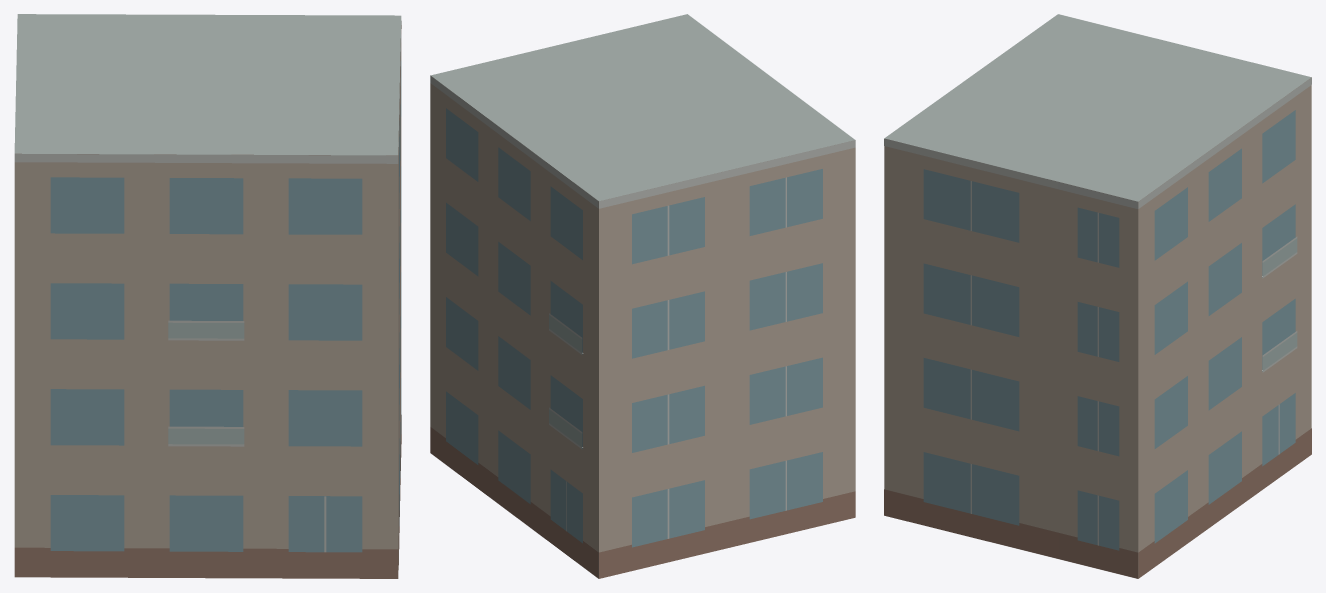
Rendered from residential-2c3e95c2-c5fe-48d7-abbb-0c8dd31d4fa5.glb.
3 renders of one model, left to right at view 1: azimuth 30°, elevation 25°; view 2: azimuth 150°, elevation 25°; view 3: azimuth 270°, elevation 25°, orthographic. The views are drawn at different scales.
Parts seen in each view (by area): view 1: residential-2c3e95c2-c5fe-48d7-abbb-0c8dd31d4fa5.tmp; view 2: residential-2c3e95c2-c5fe-48d7-abbb-0c8dd31d4fa5.tmp; view 3: residential-2c3e95c2-c5fe-48d7-abbb-0c8dd31d4fa5.tmp.
Boxes of the visible parts, x1,y1,x2,y2 form: residential-2c3e95c2-c5fe-48d7-abbb-0c8dd31d4fa5.tmp: (14,14,401,578); residential-2c3e95c2-c5fe-48d7-abbb-0c8dd31d4fa5.tmp: (430,14,855,578); residential-2c3e95c2-c5fe-48d7-abbb-0c8dd31d4fa5.tmp: (884,14,1311,578).
Bounding box in the file's own units: 13.03 × 12.2 × 12.54.
